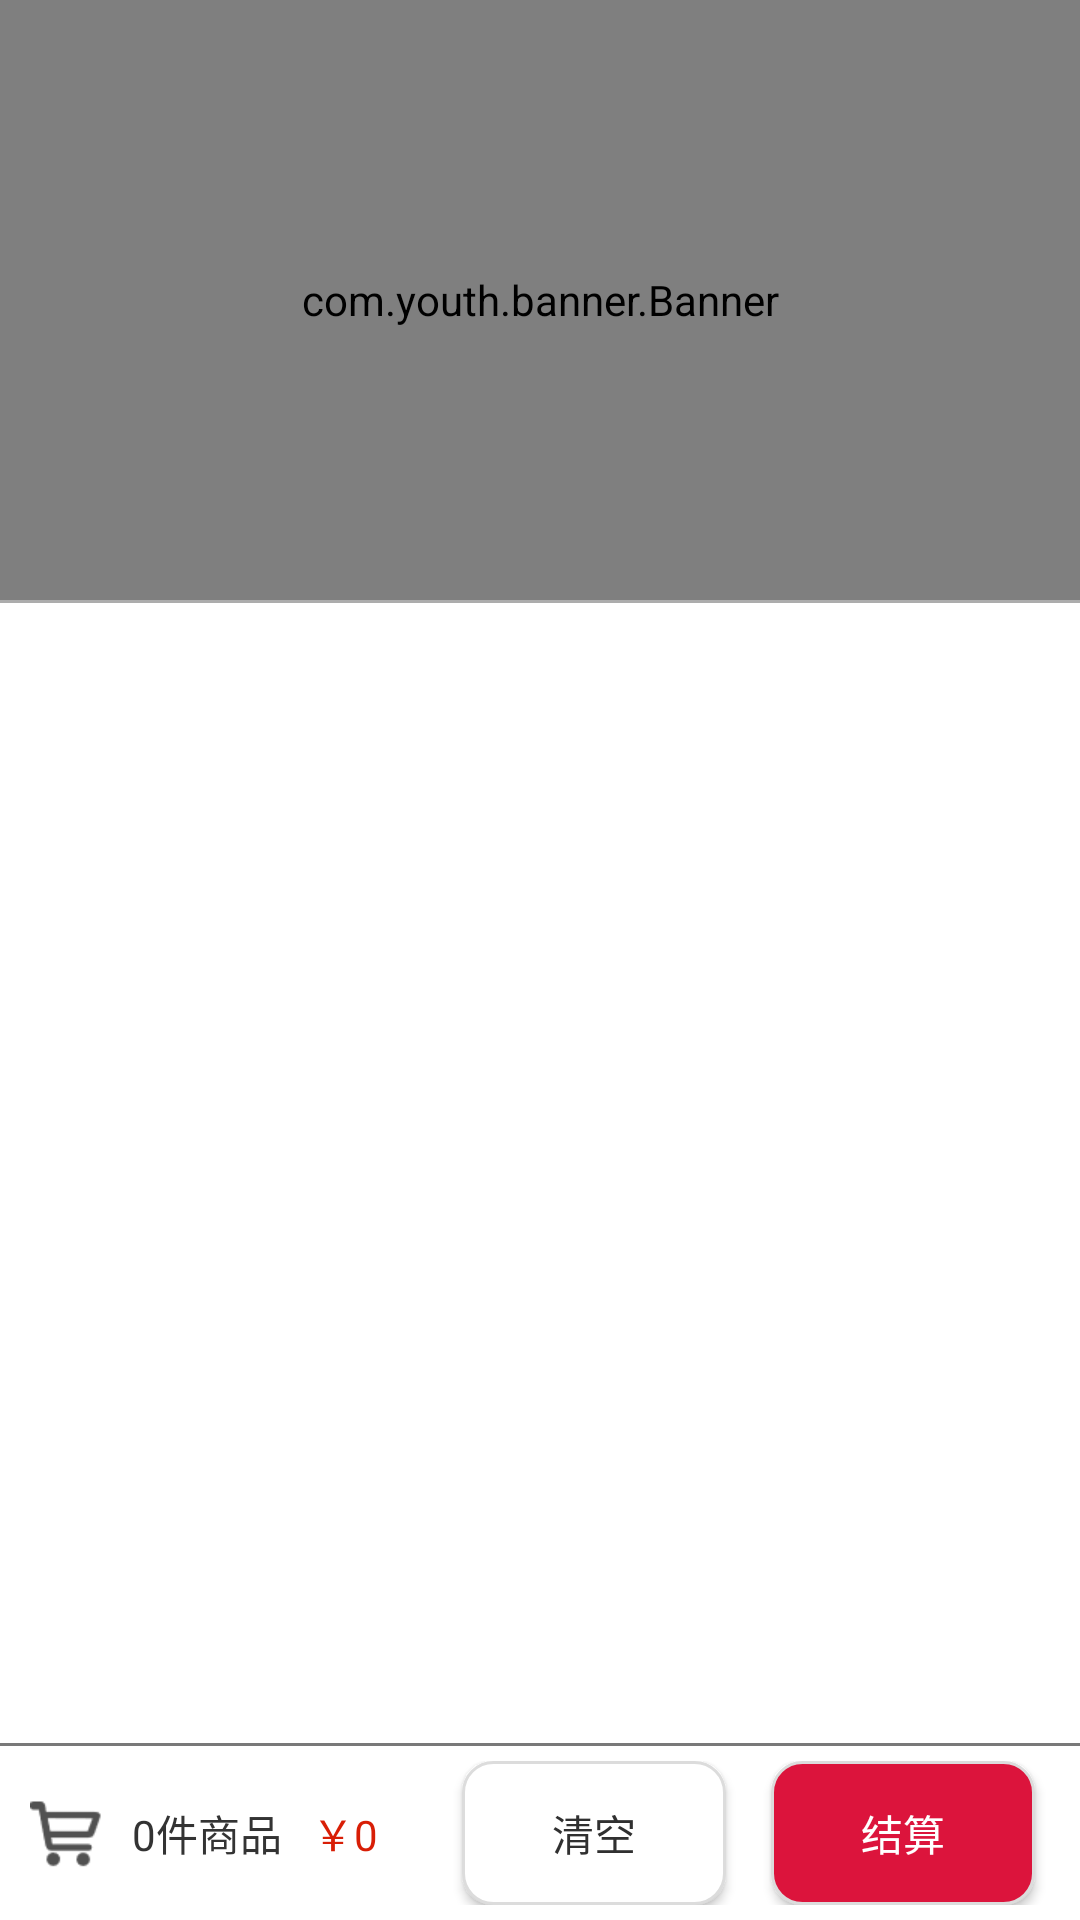

Where to tap for icons on this 1080 x 1920 app screen, as [x,y]:
shop car: [65,1834]
